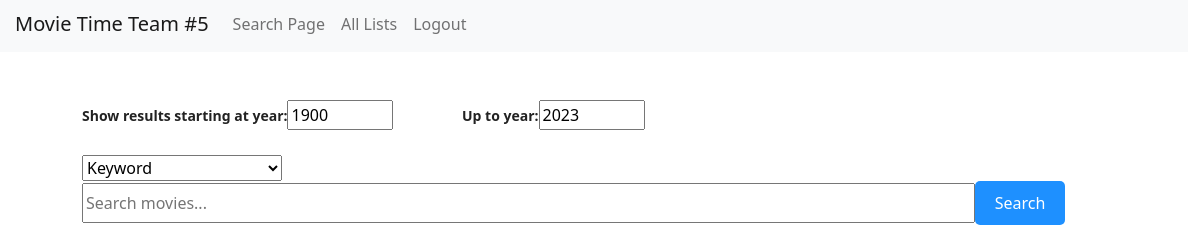
Test: fails to fetch a movie result for shrek with title option
Select "Title" in the dropdown with test id "options" at {"x": 182, "y": 168}, box [82, 155, 282, 181]
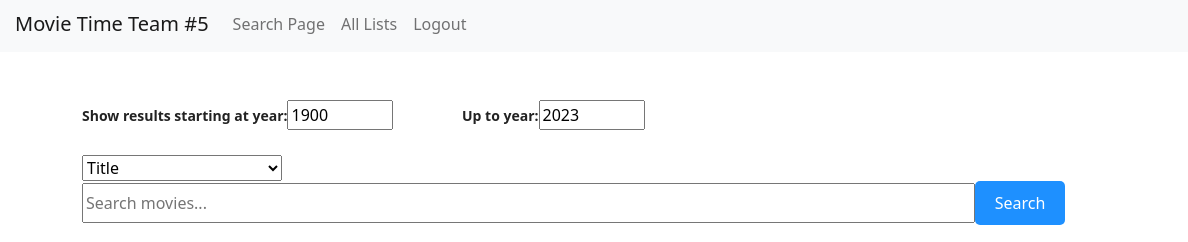
Type "Shrek" into the field with test id "searchField".
click(528, 203); type("Shrek")  # box [82, 183, 975, 223]
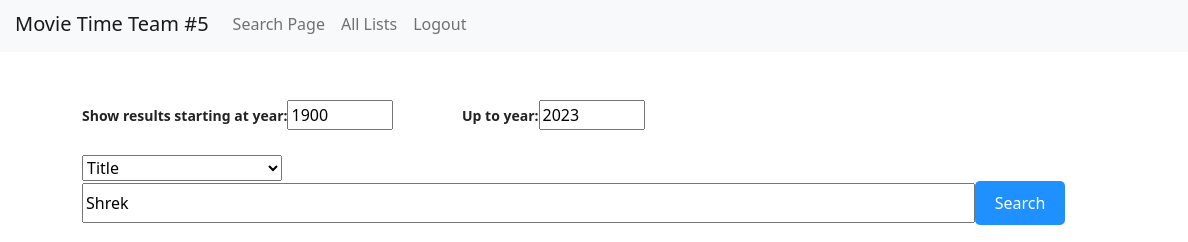
Submit the form from the field with test id "searchField", box [82, 183, 975, 223]
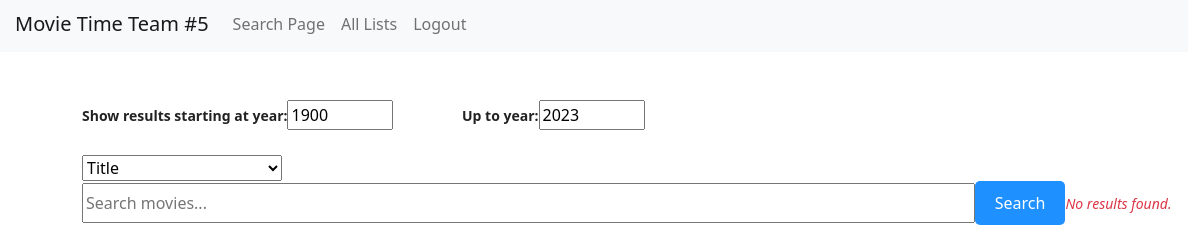
Result: the text "No results found." is shown at [1065, 194, 1171, 213]
